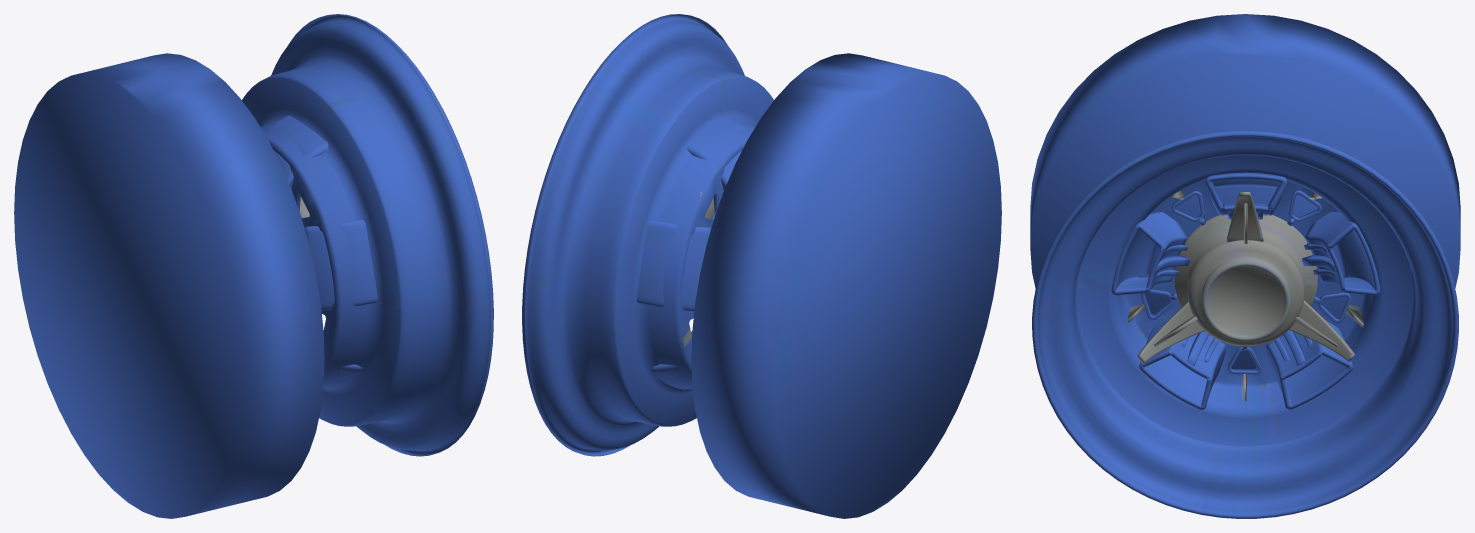
3 renders of one model, left to right at view 1: azimuth 30°, elevation 25°; view 2: azimuth 150°, elevation 25°; view 3: azimuth 270°, elevation 25°, orthographic. The views are drawn at different scales.
Parts seen in each view (by area): view 1: Flux; view 2: Flux; view 3: Flux.
Part boxes in pixels (<box>): Flux: <box>14,14,493,518</box>; Flux: <box>522,14,1001,518</box>; Flux: <box>1030,14,1460,518</box>.
Size of the model in its own units: 0.7768 by 1.21 by 1.21.
1 material, 1 textured.
